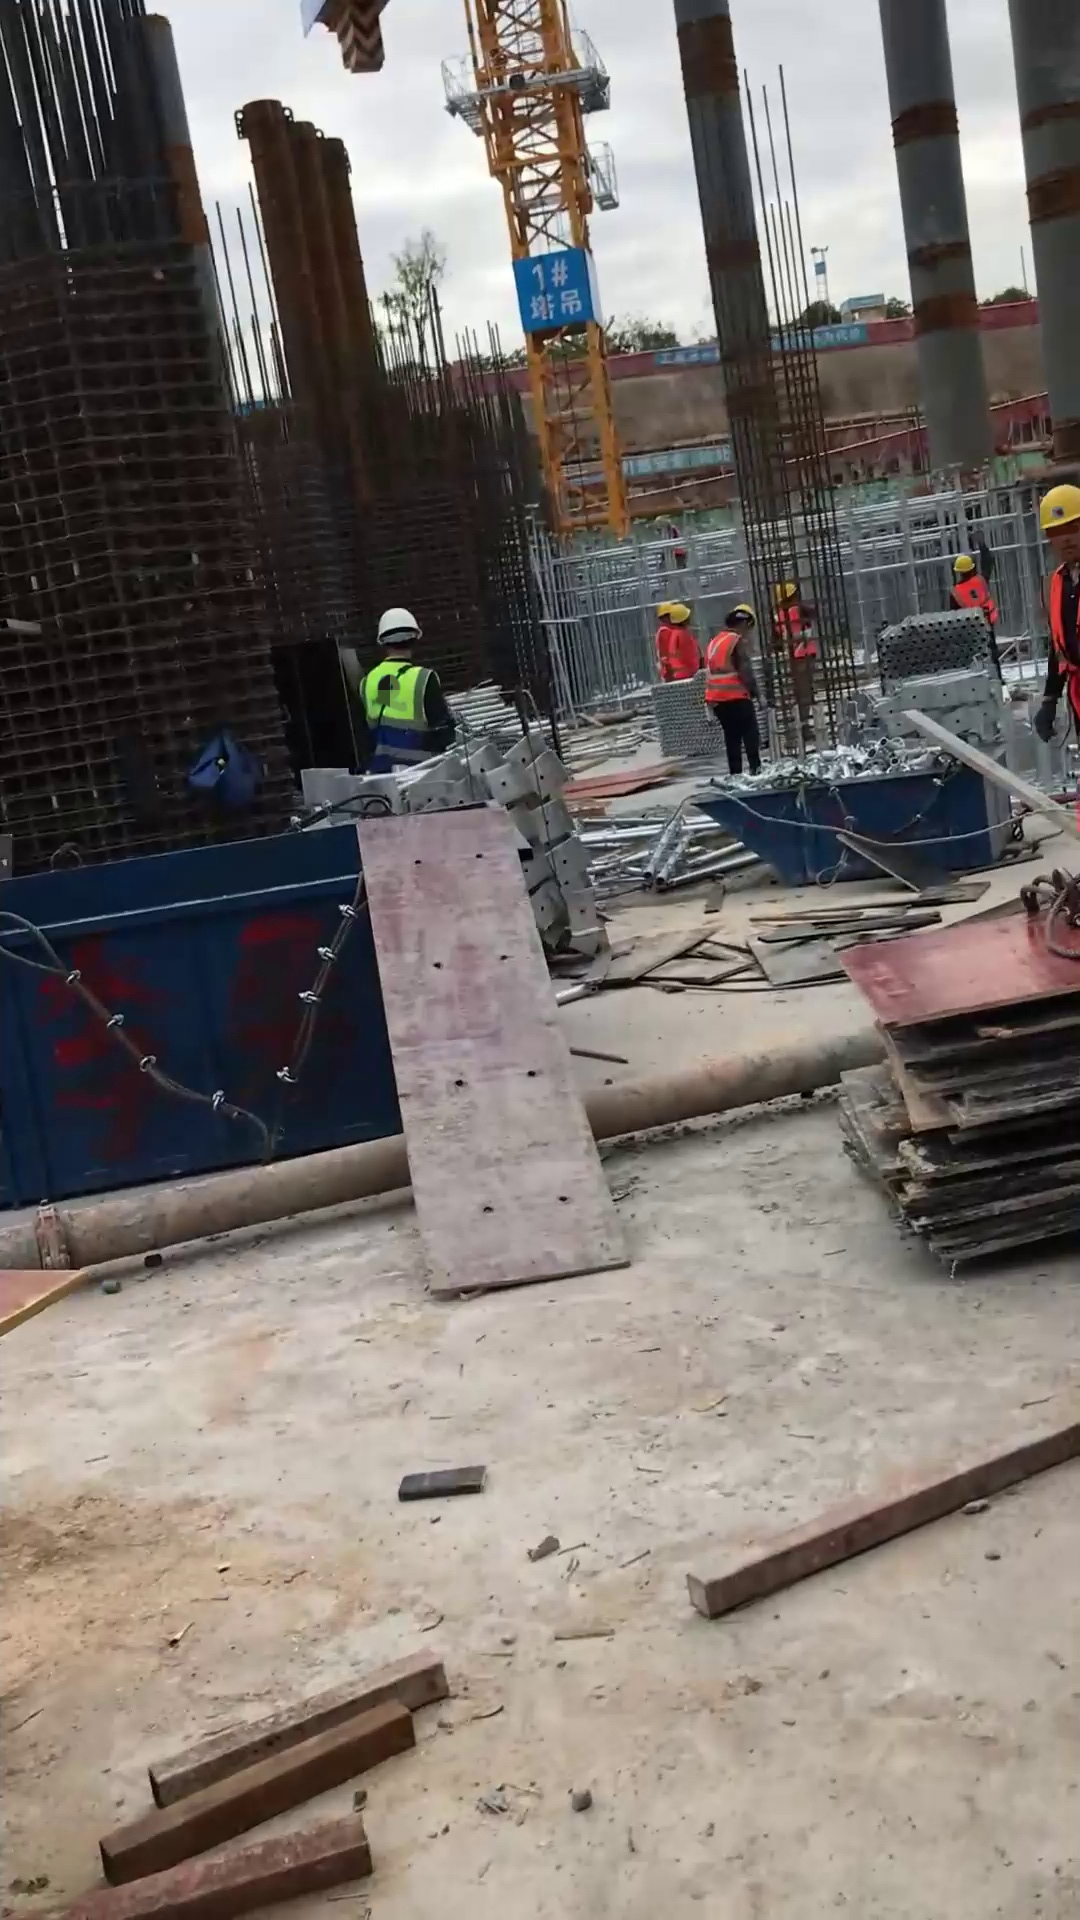board: (814, 876, 1080, 1296)
helmet: (1033, 479, 1080, 537), (374, 606, 425, 649), (729, 599, 764, 631), (950, 550, 978, 582), (650, 594, 679, 621), (665, 604, 694, 626)
hopper: (1, 817, 411, 1214), (685, 751, 1021, 875)
person: (353, 599, 464, 782), (1018, 476, 1080, 774), (704, 596, 768, 782), (943, 532, 1011, 689), (661, 601, 708, 689), (643, 594, 683, 694)
scaffold: (443, 678, 571, 768), (869, 615, 1005, 679), (649, 685, 728, 765)
slogan: (621, 443, 737, 478), (654, 340, 721, 370)
vest: (360, 658, 449, 769), (1033, 558, 1080, 733), (703, 626, 751, 711), (949, 581, 1001, 628), (662, 624, 692, 681), (650, 626, 671, 682)
